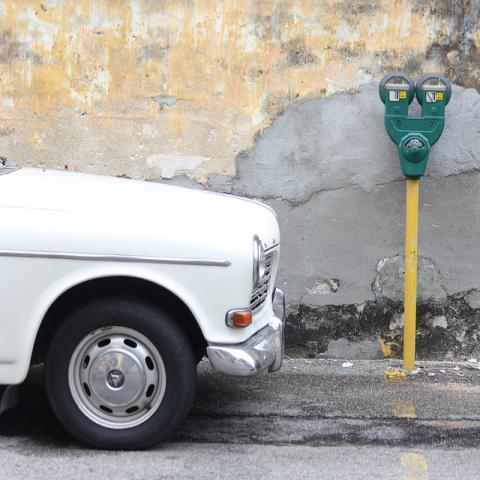car: (0, 166, 286, 452)
